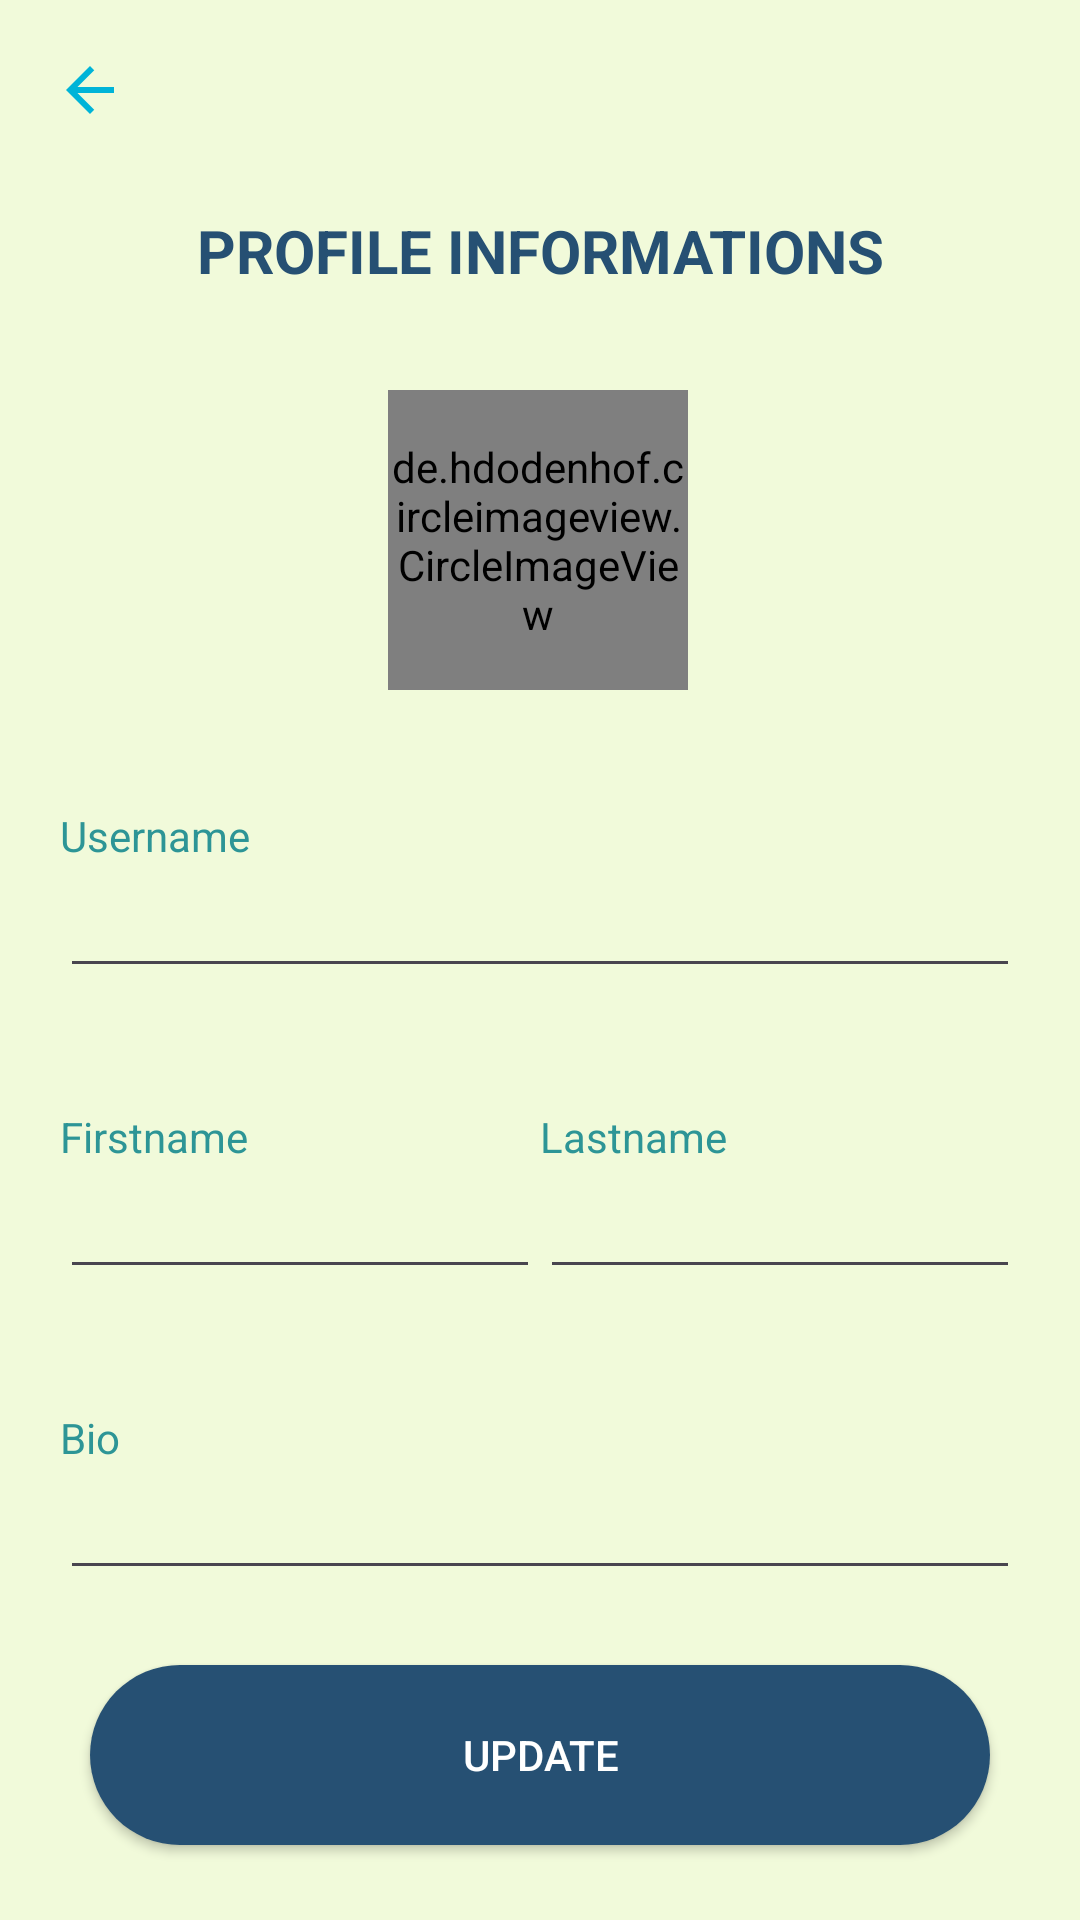

Locate icon controls on the screen. Image size 1080px×1920px, boxes as bbox=[x1, y1, x2, y2].
arrow: bbox=[66, 66, 114, 114]
